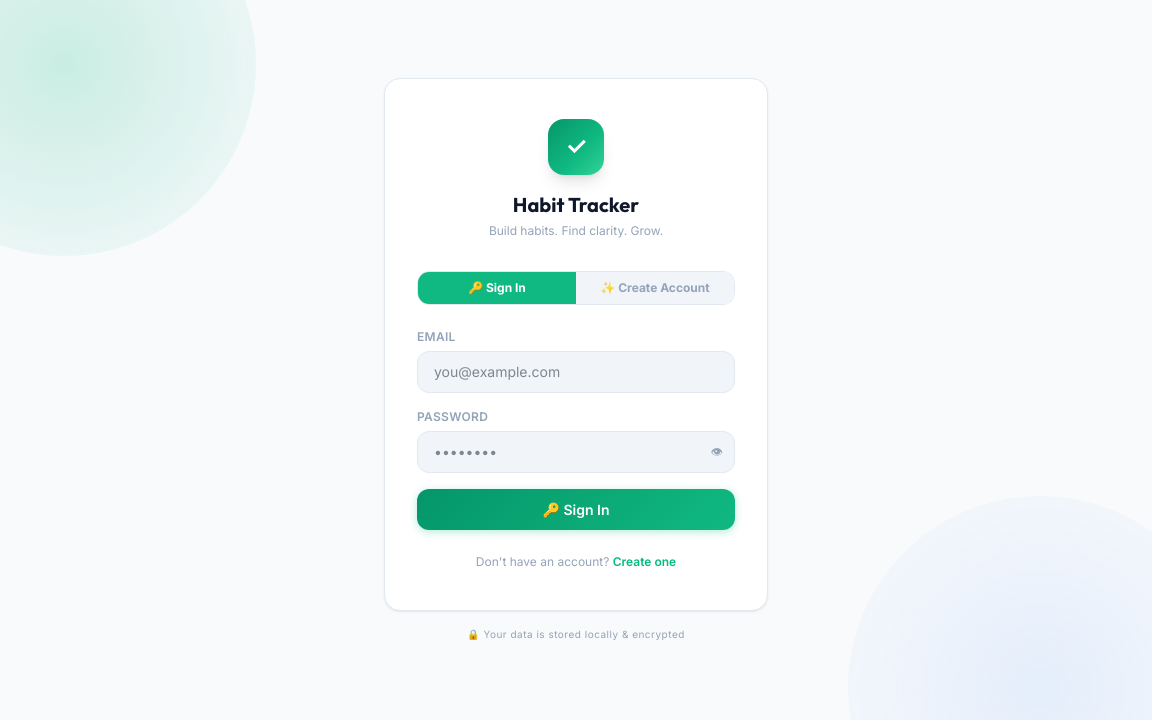
AuthPages › shows error message on login failure
Type "test@example.com" into the field labelled "Email". click: (576, 372)
box: 417,351 -> 735,393
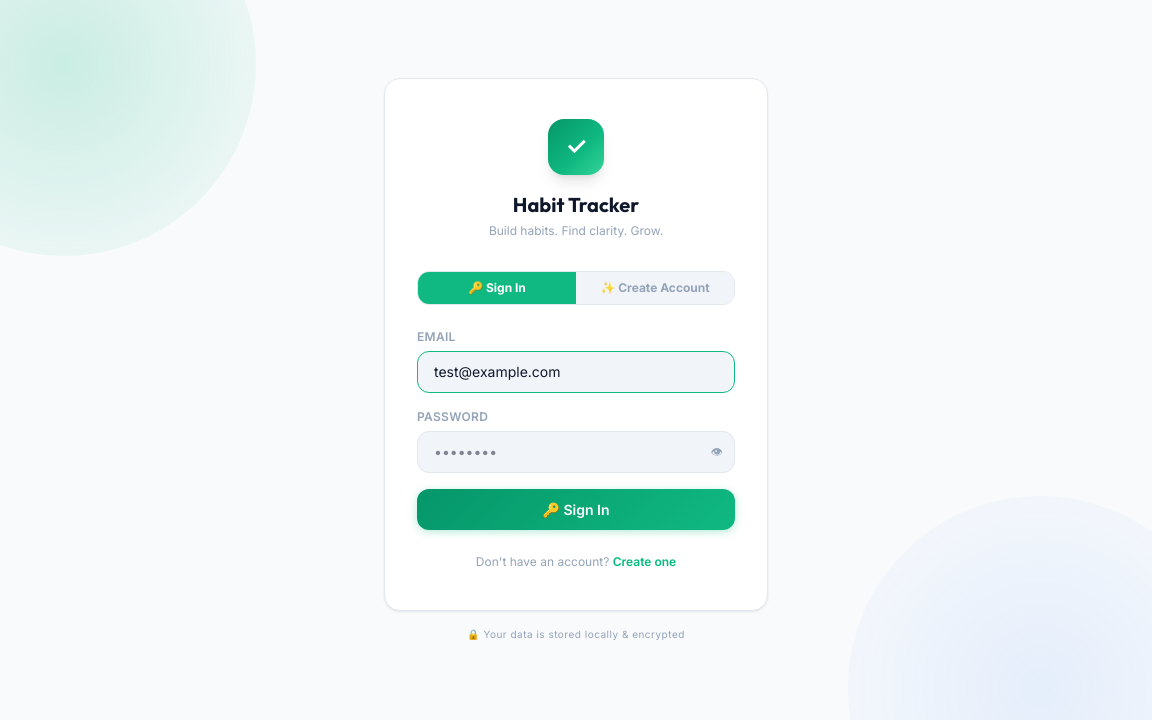
Type "wrongpassword" into the password field labelled "Password". click: (576, 452)
box: 417,431 -> 735,473
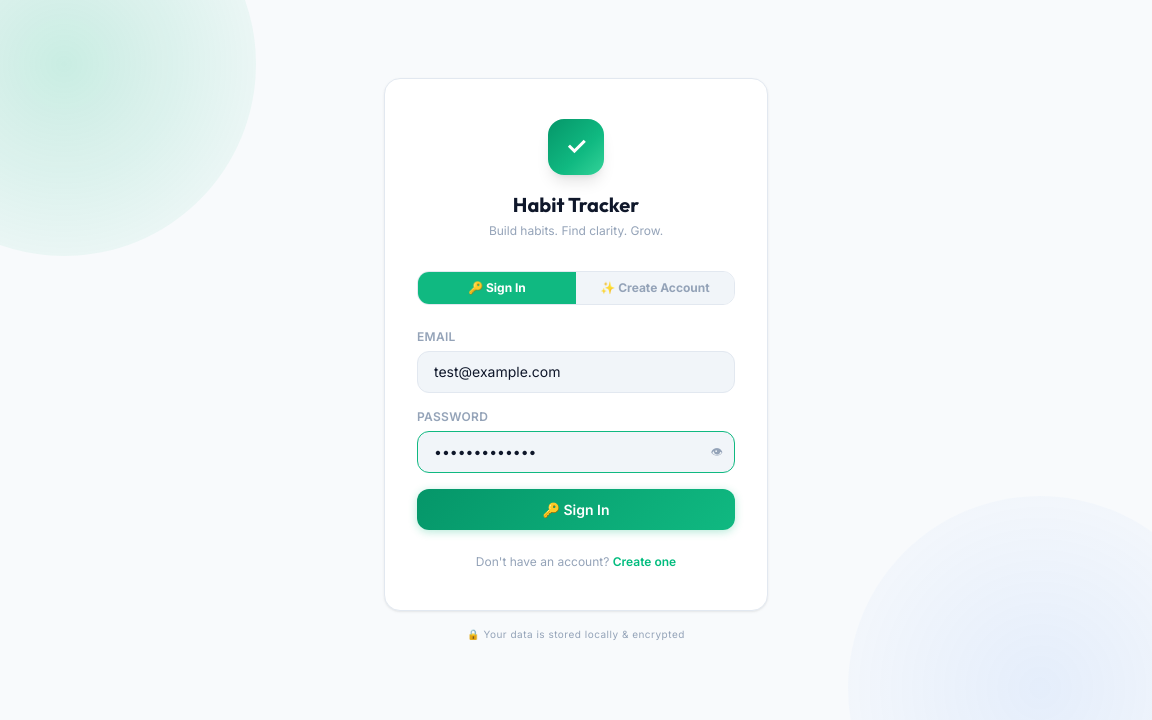
Click the button "🔑 Sign In" below "Password". click: (576, 510)
box: 417,489 -> 735,530
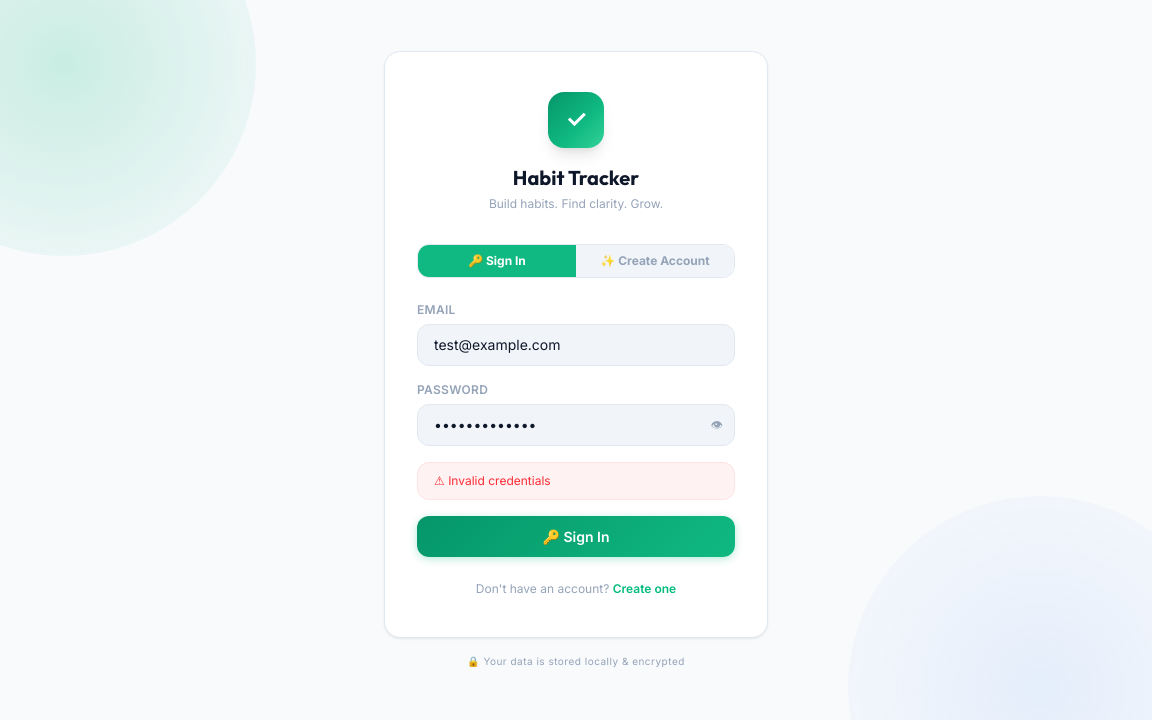
Result: the text "⚠ Invalid credentials" is shown at 417,462 -> 735,500
